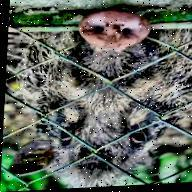boar: (6, 5, 192, 192)
